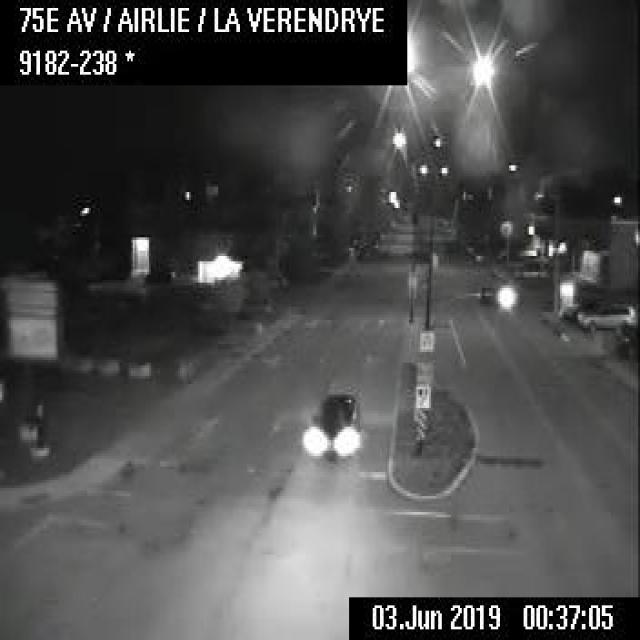vehicle: (301, 386, 360, 459), (573, 297, 636, 332)
